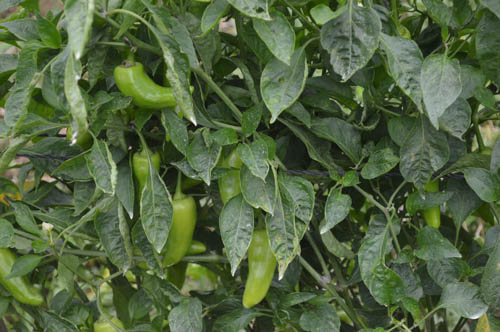ChiliPepper: (115, 61, 200, 111), (216, 146, 254, 225), (159, 194, 198, 269), (244, 228, 277, 313), (1, 250, 45, 304), (129, 151, 165, 209)
